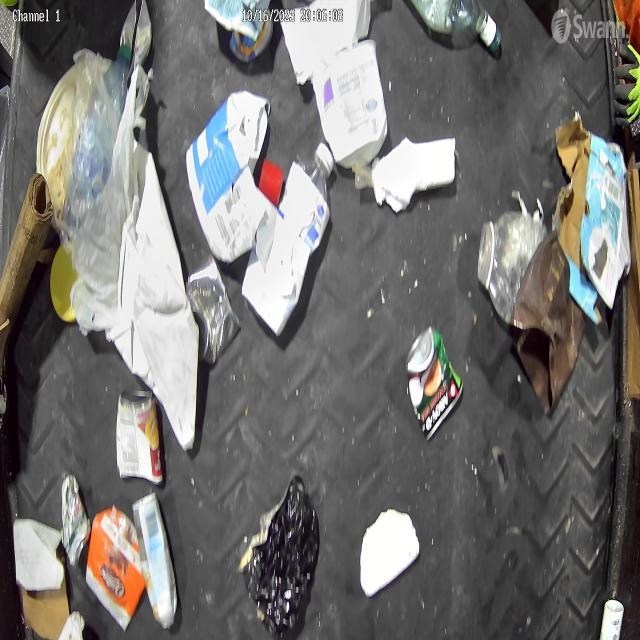can: (406, 324, 464, 440), (131, 492, 179, 630), (185, 251, 242, 367), (116, 386, 164, 486), (60, 474, 92, 568)
